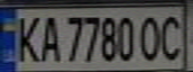0: (115, 12, 139, 63)
7: (60, 12, 84, 63), (81, 12, 100, 63)
8: (100, 12, 121, 63)
A: (36, 12, 63, 63)
C: (154, 11, 190, 62)
K: (9, 11, 45, 63)
O: (136, 12, 166, 63)
